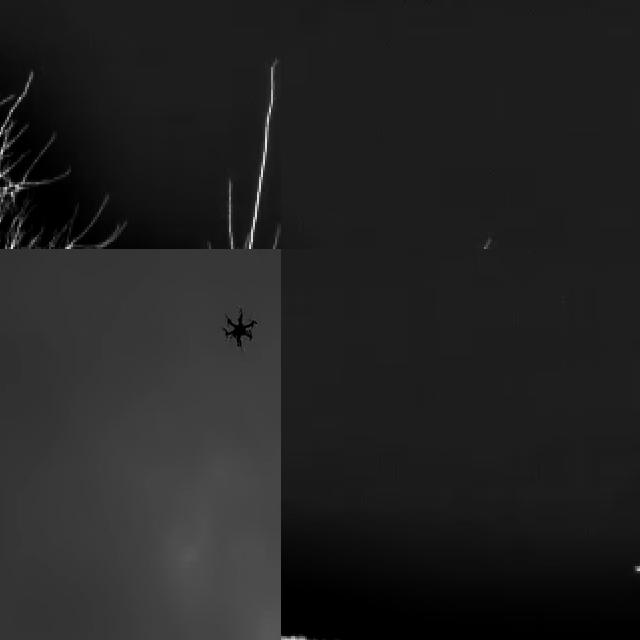1: (623, 554, 640, 589)
drone: (220, 307, 260, 350)
